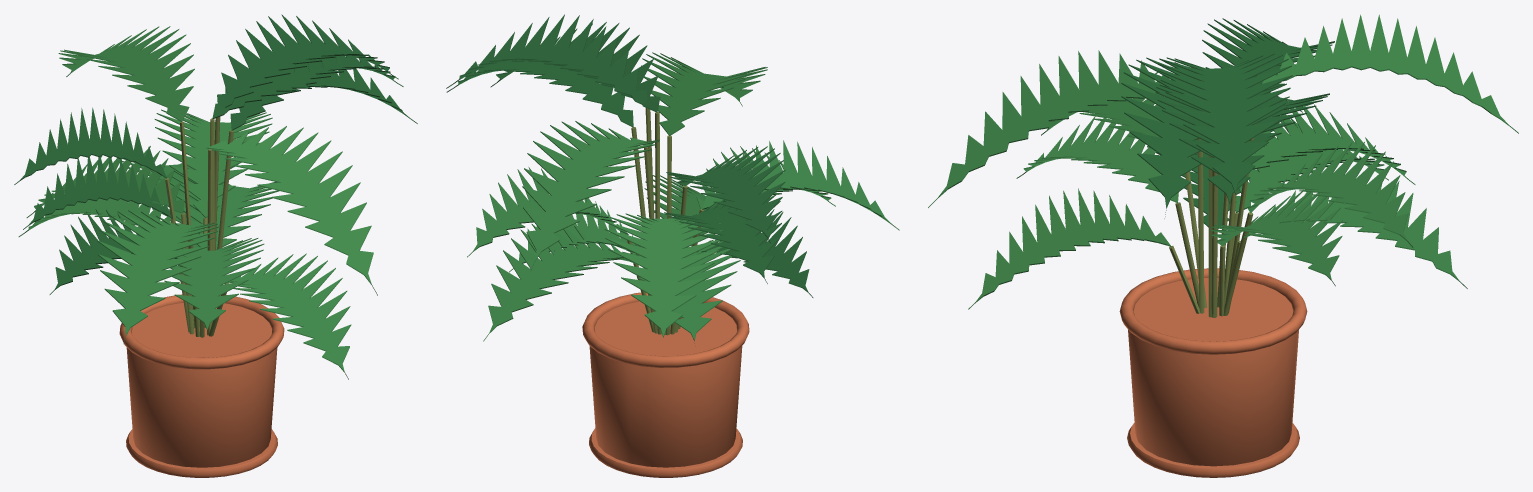
File: plant_palm.glb
3 views of the same model, side by side, from view 1: azimuth 30°, elevation 25°; view 2: azimuth 150°, elevation 25°; view 3: azimuth 270°, elevation 25° (orthographic). The views are drawn at different scales.
Parts seen in each view (by area): view 1: PlantPalmBody; view 2: PlantPalmBody; view 3: PlantPalmBody.
Part boxes in pixels (bbox=[...]): PlantPalmBody: bbox=[14, 14, 417, 477]; PlantPalmBody: bbox=[446, 14, 899, 477]; PlantPalmBody: bbox=[928, 14, 1518, 477].
Size of the model in its own units: 1.6 by 1.6 by 1.98.
